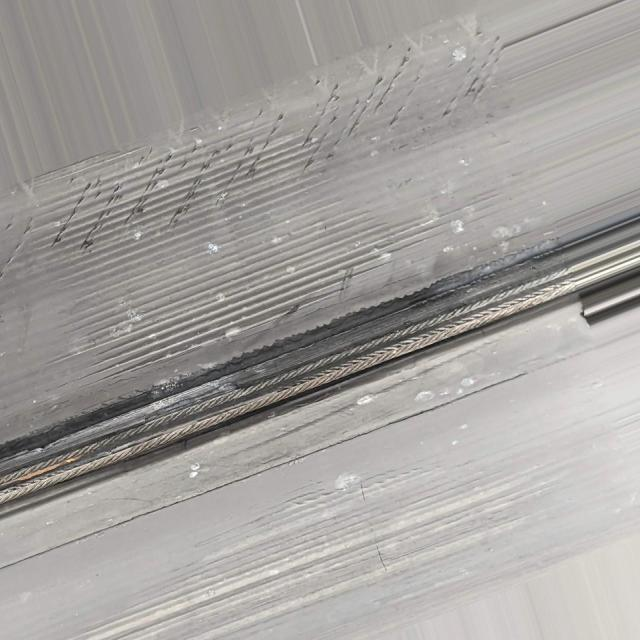Tear: (0, 243, 584, 520)
impact damage: (9, 13, 502, 282), (35, 142, 516, 402)
